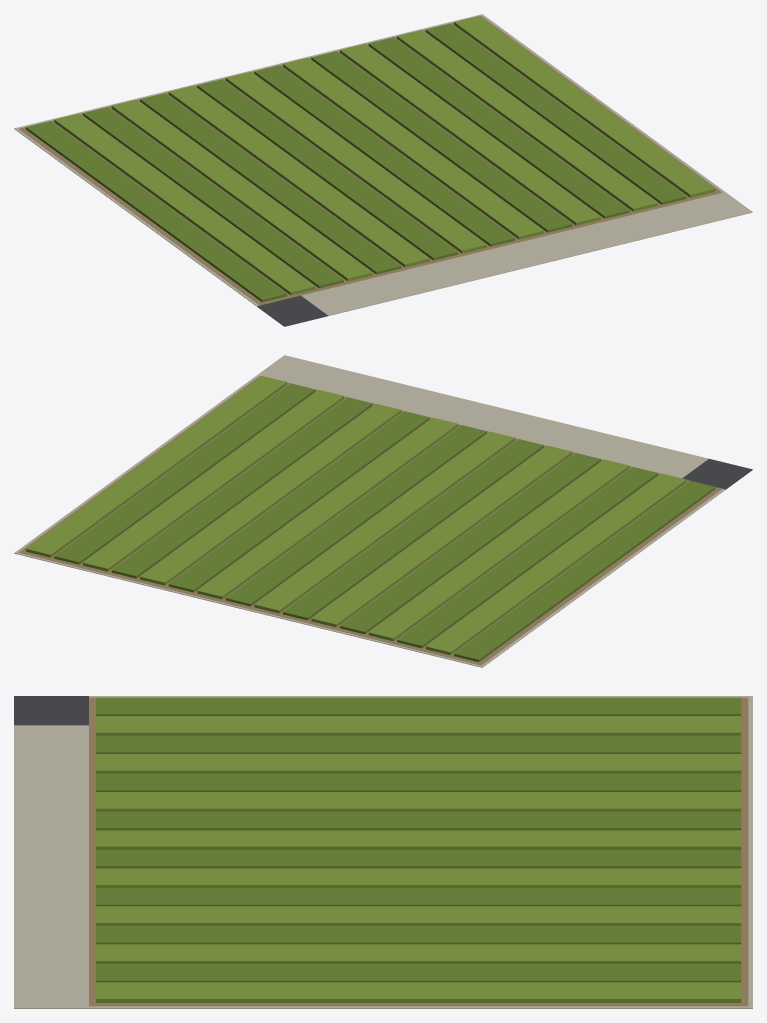
Rendered from site_field_g.glb.
3 renders of one model, top to bottom at view 1: azimuth 30°, elevation 25°; view 2: azimuth 150°, elevation 25°; view 3: azimuth 270°, elevation 25°, orthographic. The views are drawn at different scales.
Visible parts, largest first — view 1: site_field_g; view 2: site_field_g; view 3: site_field_g.
Part boxes in pixels (<box>): site_field_g: <box>14,14,752,326</box>; site_field_g: <box>14,355,752,667</box>; site_field_g: <box>14,696,752,1008</box>.
Bounding box in the file's own units: 64 × 0.46 × 64.
